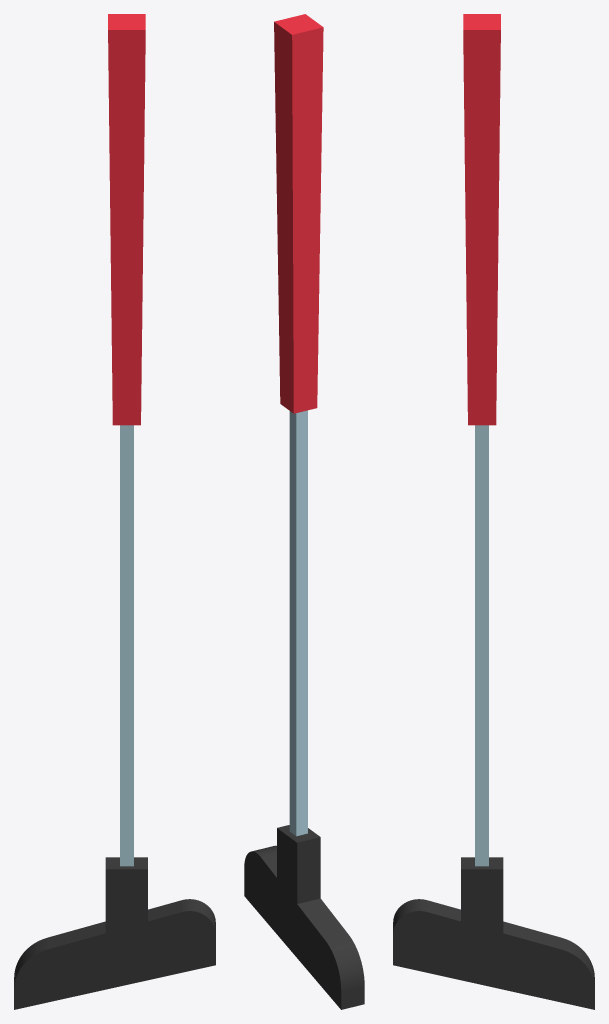
The model's file is club_red.fbx.
3 renders of one model, left to right at view 1: azimuth 90°, elevation 25°; view 2: azimuth 210°, elevation 25°; view 3: azimuth 270°, elevation 25°, orthographic. The views are drawn at different scales.
Visible parts, largest first — view 1: club_red; view 2: club_red; view 3: club_red.
Boxes of the visible parts, x1=… form: club_red: x1=14, y1=14, x2=215, y2=1009; club_red: x1=244, y1=14, x2=364, y2=1009; club_red: x1=393, y1=14, x2=594, y2=1009.
Size of the model in its own units: 0.3453 by 9.9 by 1.84.
